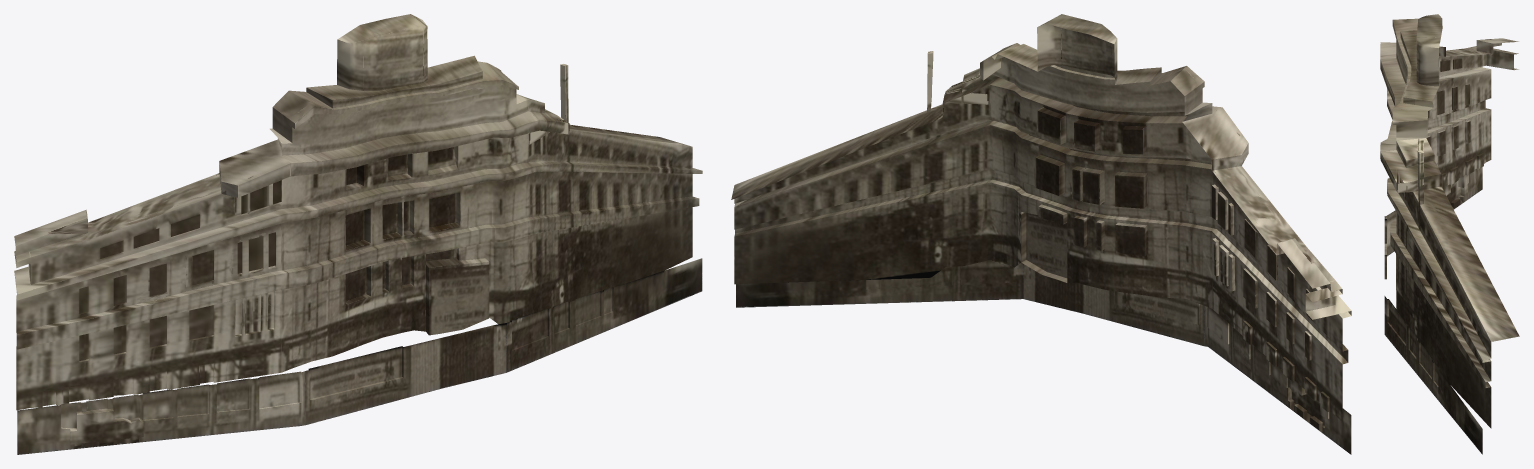
File: capitol.gltf
The picture shows the model from 3 angles, left to right: view 1: azimuth 30°, elevation 25°; view 2: azimuth 150°, elevation 25°; view 3: azimuth 270°, elevation 25°; orthographic projection. The views are drawn at different scales.
Visible parts, largest first — view 1: Old Capitol theatre; view 2: Old Capitol theatre; view 3: Old Capitol theatre.
Boxes of the visible parts, box(x1,y1,x2,y2) form: Old Capitol theatre: box(14, 14, 702, 454); Old Capitol theatre: box(731, 14, 1351, 454); Old Capitol theatre: box(1380, 14, 1519, 454).
Size of the model in its own units: 56.76 by 29.65 by 12.7.
2 materials, 2 textured.
